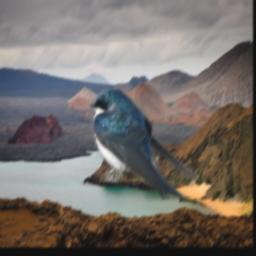Swallow: (91, 87, 198, 200)
